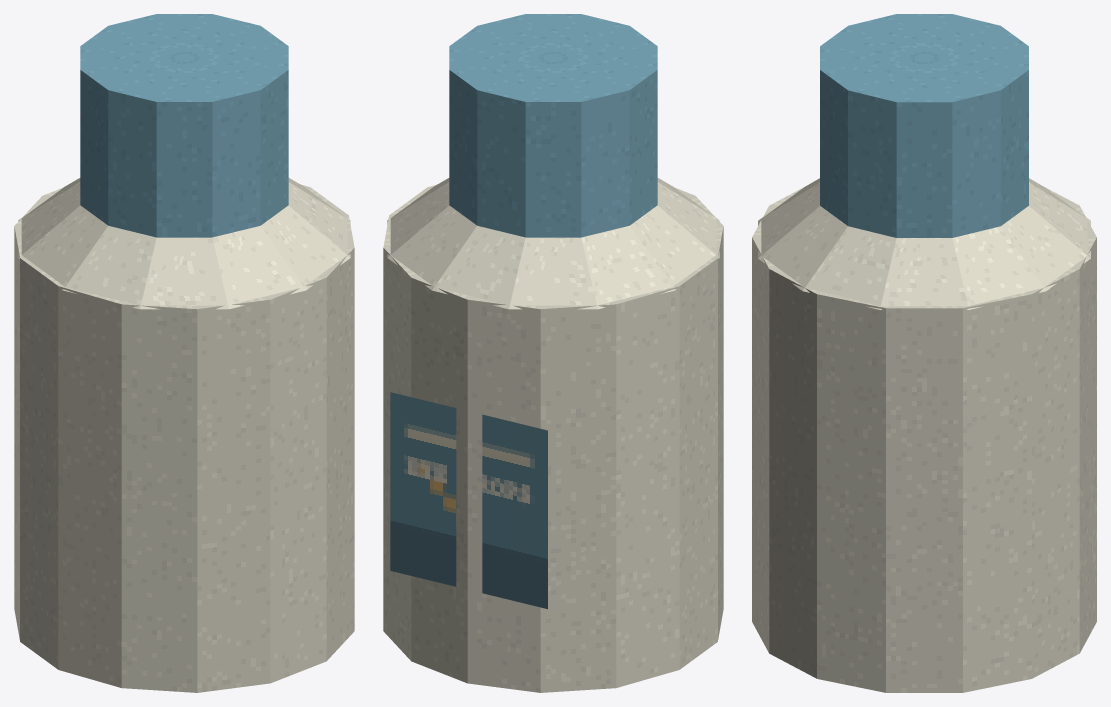
File: steroid_eyedrops.glb
3 renders of one model, left to right at view 1: azimuth 30°, elevation 25°; view 2: azimuth 150°, elevation 25°; view 3: azimuth 270°, elevation 25°, orthographic.
Parts seen in each view (by area): view 1: block_medical bottle, block_bottle cap, block_tapered shoulder; view 2: block_medical bottle, block_bottle cap, block_tapered shoulder, block_medicine label; view 3: block_medical bottle, block_bottle cap, block_tapered shoulder.
Boxes of the visible parts, left/top/right/bottom form: block_medical bottle: left=14, top=184, right=354, bottom=692; block_bottle cap: left=80, top=14, right=288, bottom=237; block_tapered shoulder: left=18, top=178, right=350, bottom=309; block_medical bottle: left=383, top=184, right=723, bottom=692; block_bottle cap: left=449, top=14, right=657, bottom=237; block_tapered shoulder: left=387, top=178, right=719, bottom=309; block_medicine label: left=390, top=392, right=547, bottom=609; block_medical bottle: left=752, top=187, right=1096, bottom=692; block_bottle cap: left=820, top=14, right=1028, bottom=237; block_tapered shoulder: left=758, top=178, right=1090, bottom=309.
Size of the model in its own units: 0.0335 by 0.062 by 0.0344.
1 material, 1 textured.
